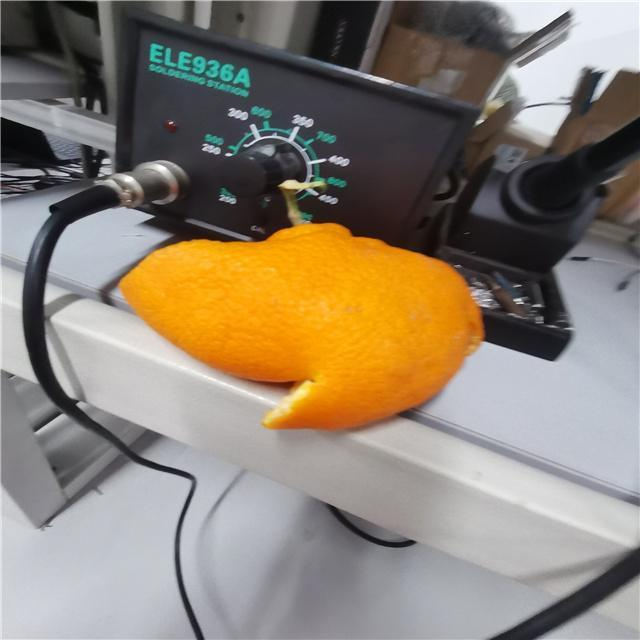orange peel: (84, 214, 487, 457)
